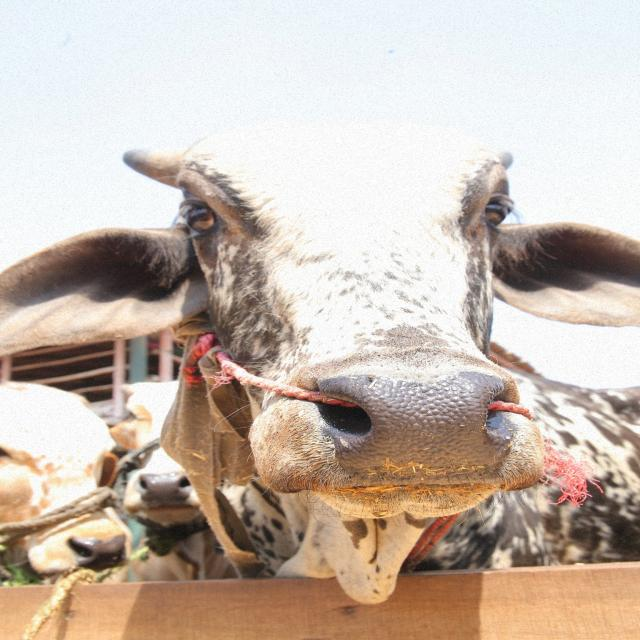muzzles: (312, 371, 521, 482), (64, 534, 133, 568), (135, 472, 194, 506)
